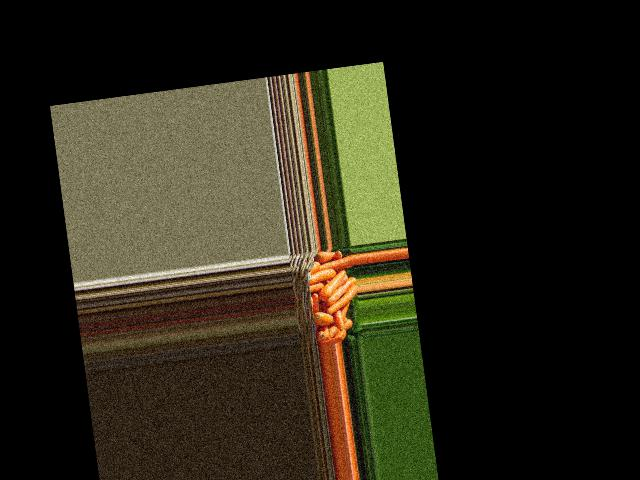carrot: (315, 331, 327, 342)
